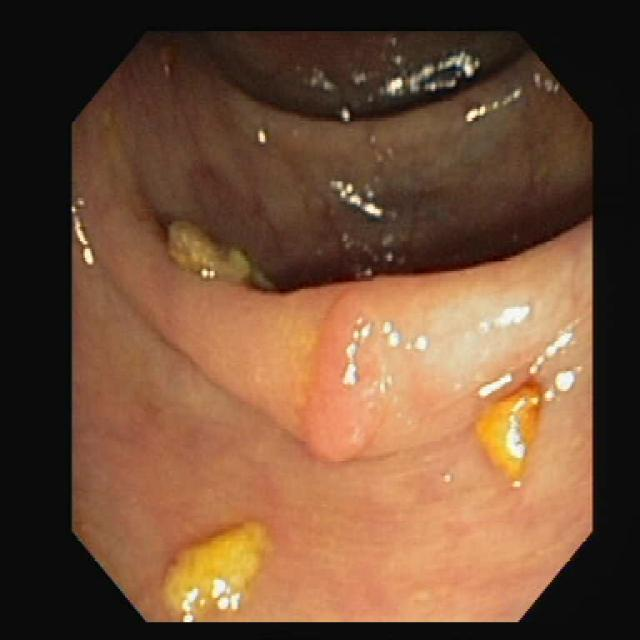tumor: (300, 278, 392, 460)
